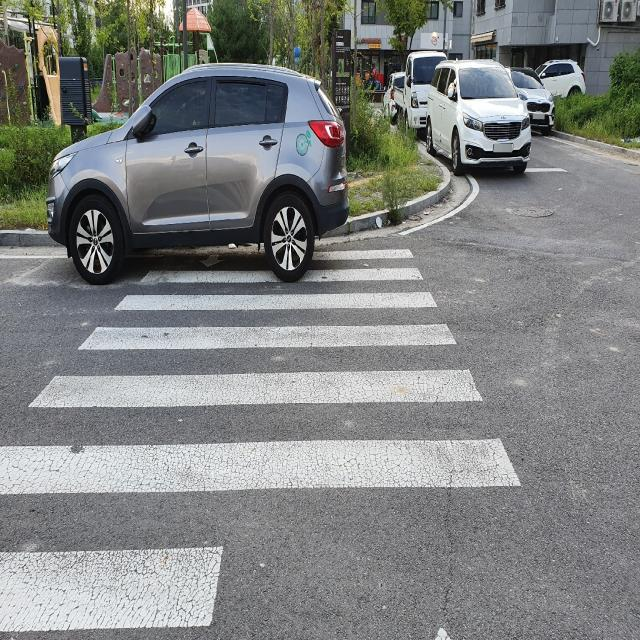횡단보도: (0, 245, 523, 639)
